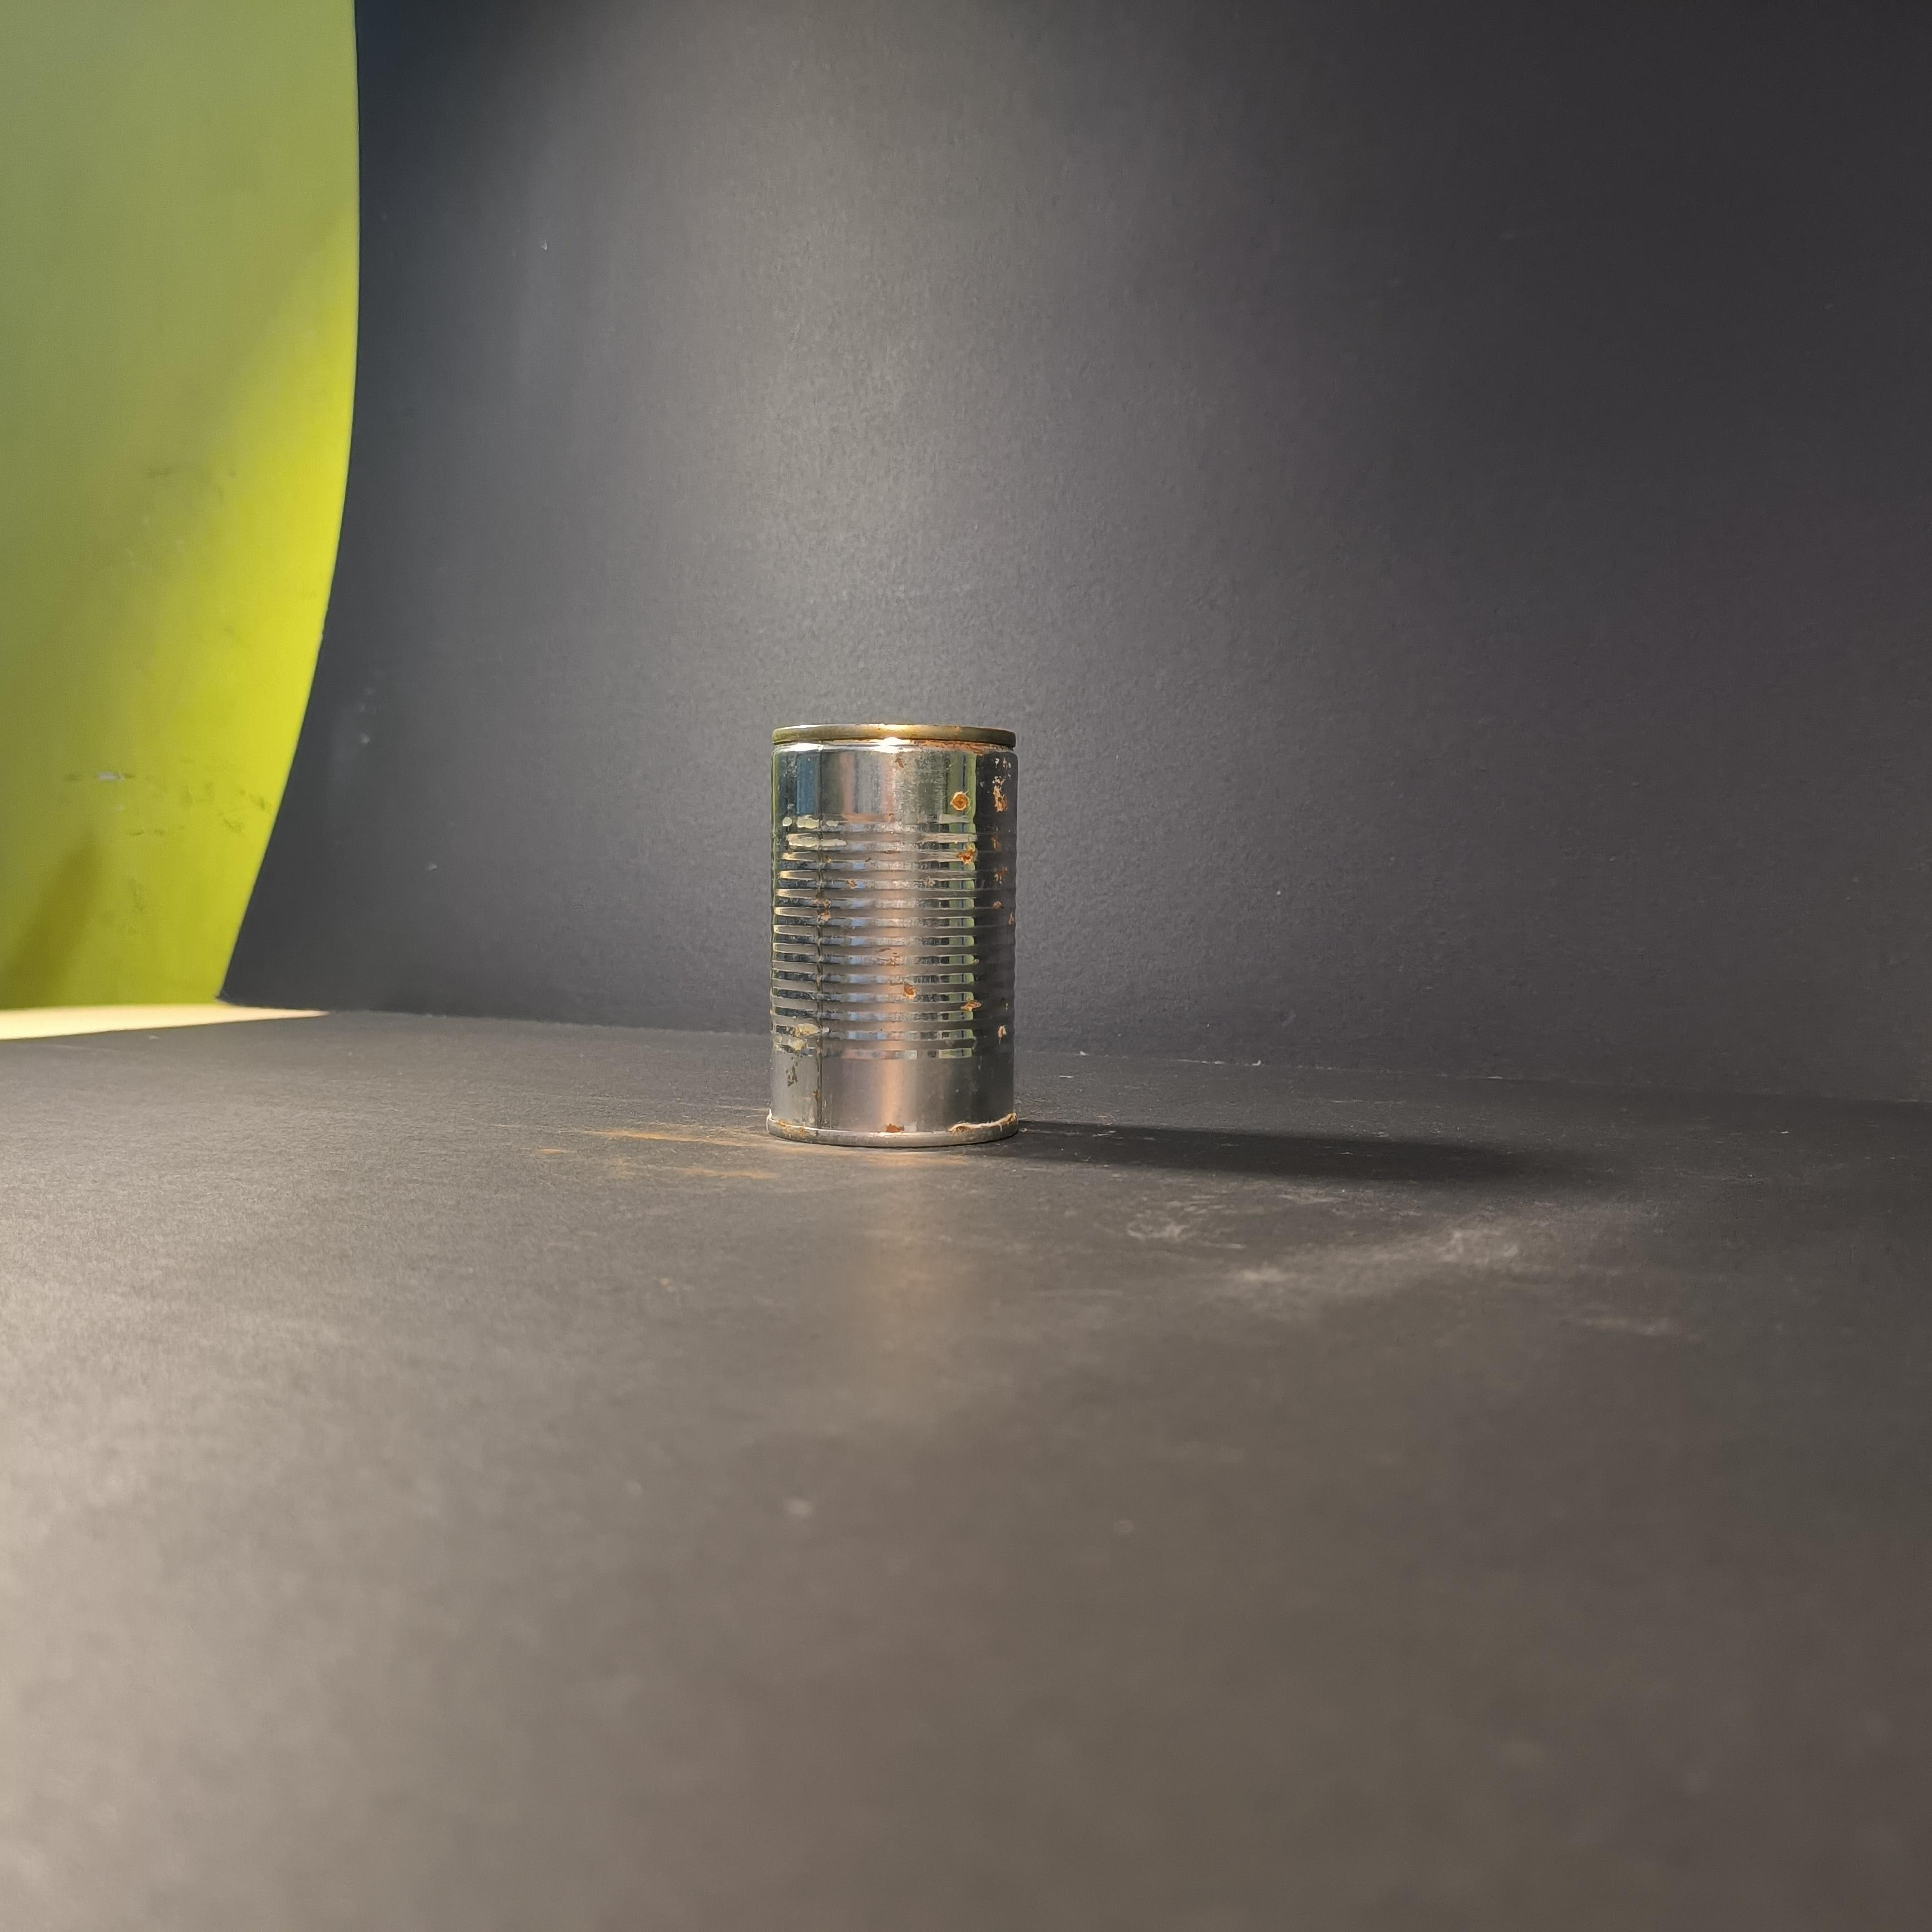Rusted: (768, 699, 1031, 1157)
